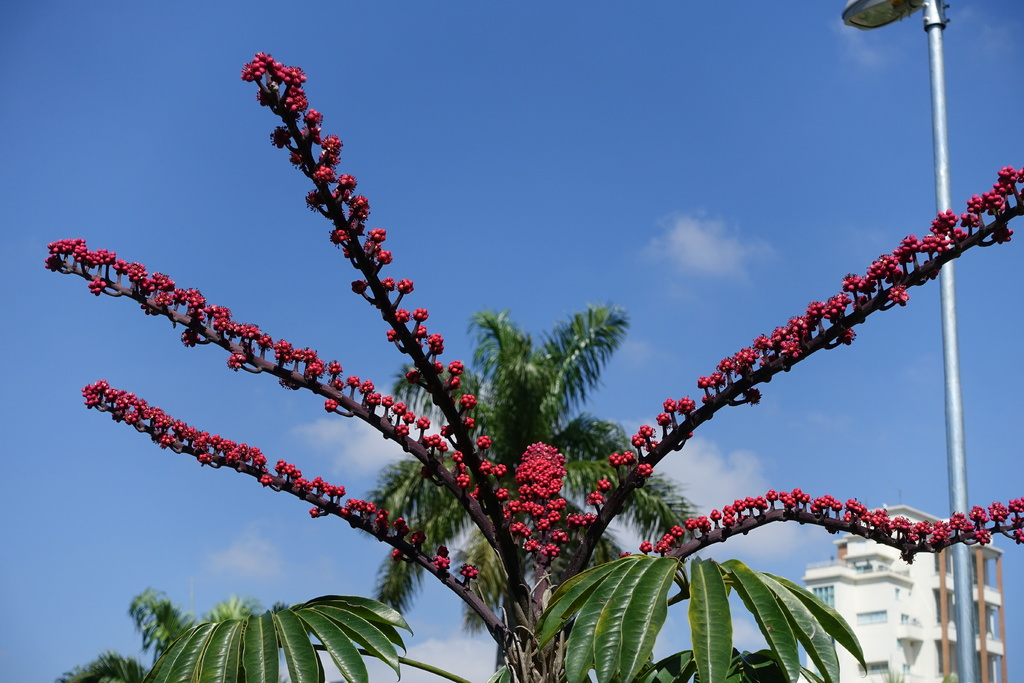person: (838, 0, 958, 30)
